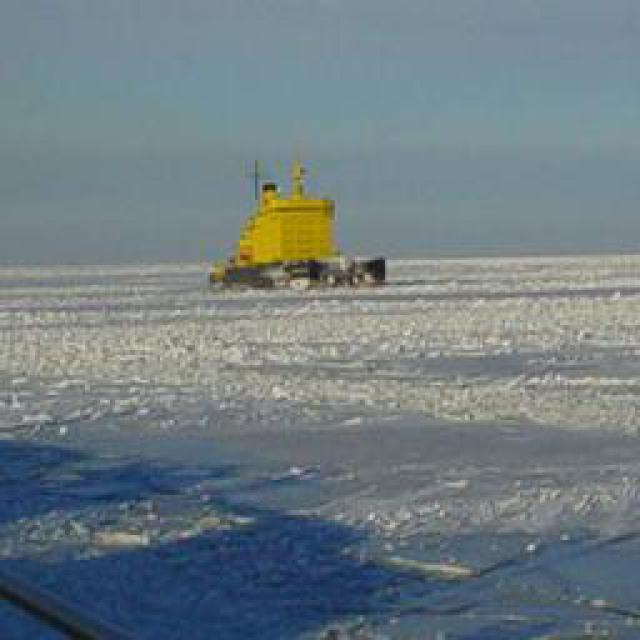Ship: (212, 156, 385, 296)
